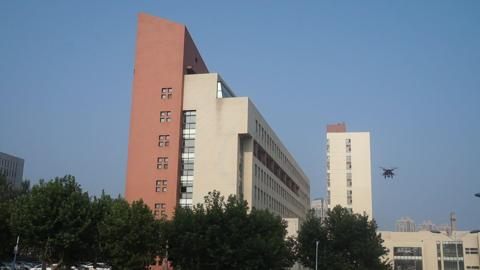UAV: (378, 166, 399, 179)
